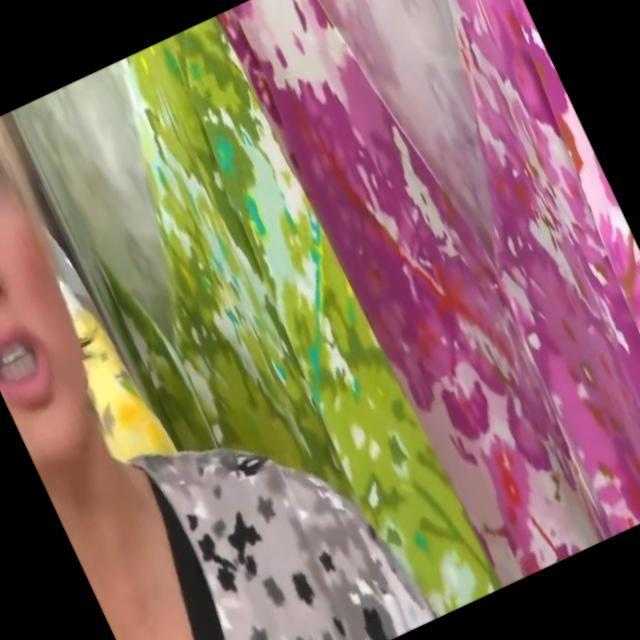person: (0, 71, 367, 640)
